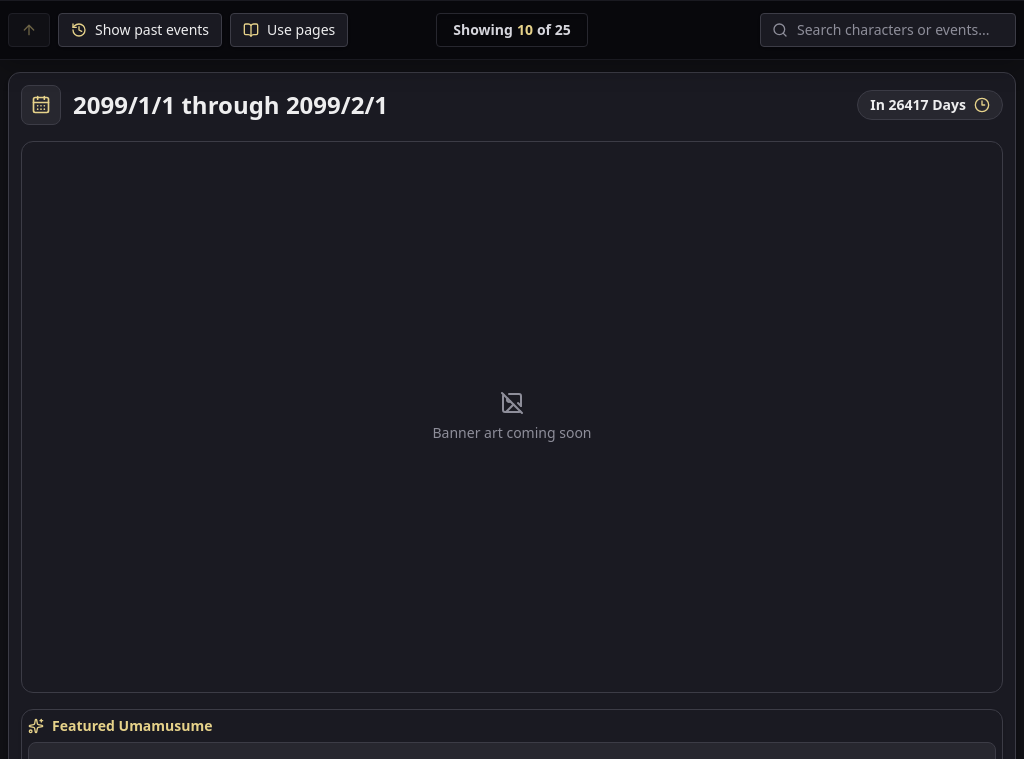
Test: Timeline view mode › switches to the original paged view and persists the choice
Click the button "Use pages": point(289, 30) [230, 13, 348, 47]
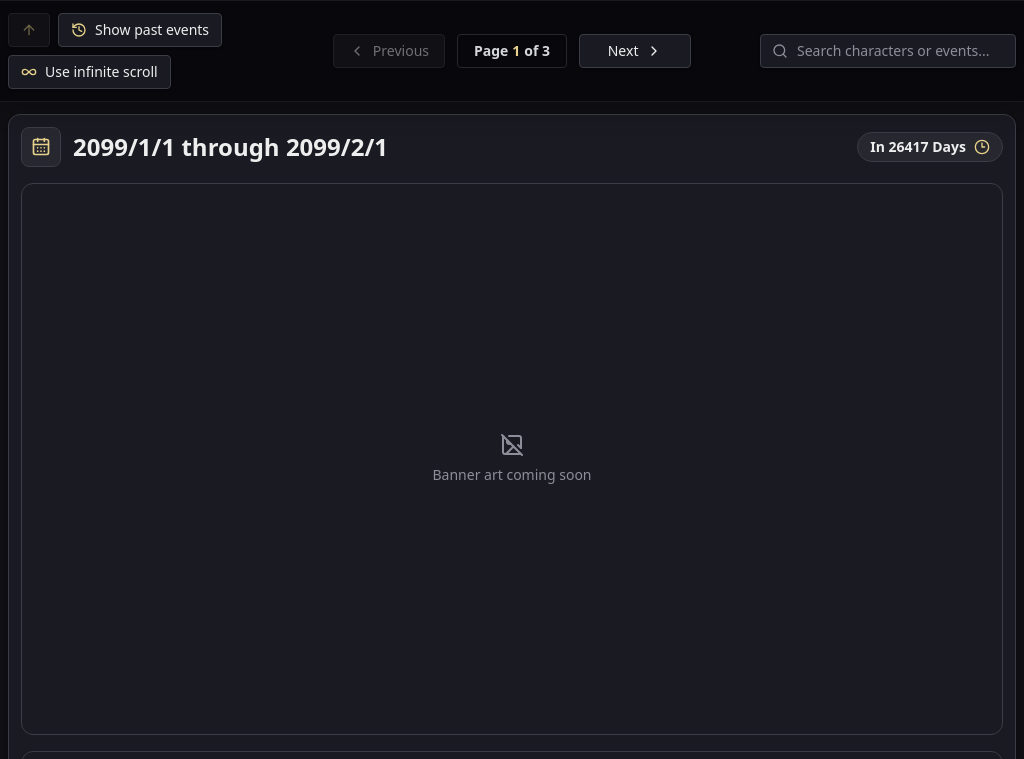
expect the button "Next" is shown: met, box [579, 34, 691, 68]
